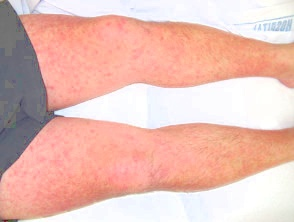SJS-TEN: (0, 99, 294, 222), (10, 10, 294, 117)
